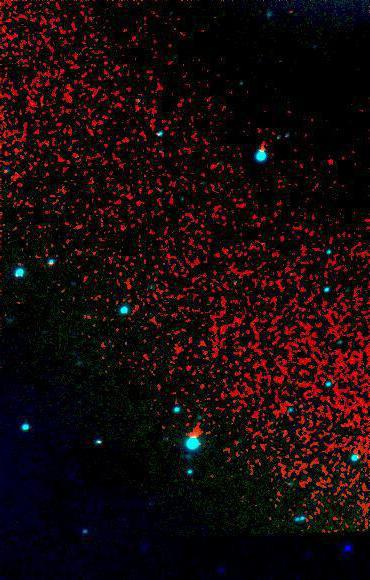star: (182, 421, 212, 451)
